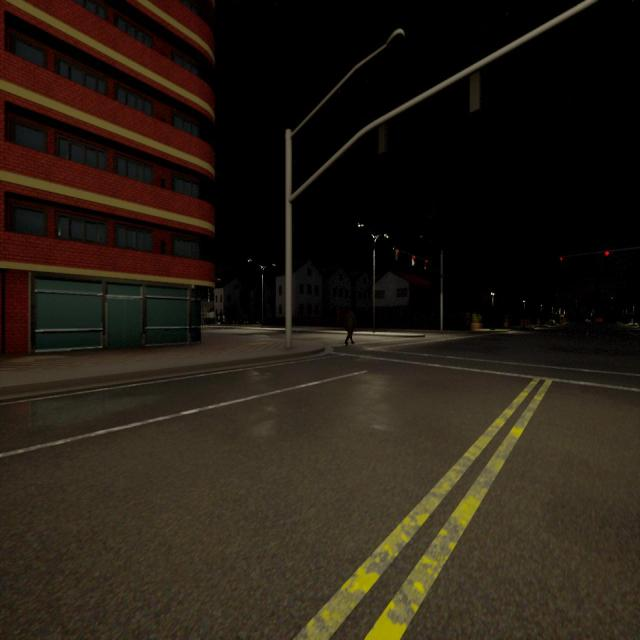Pedestrian: (344, 309, 354, 345)
traffic_light: (471, 72, 484, 110), (379, 125, 387, 151), (424, 260, 428, 270), (396, 250, 399, 262), (605, 250, 610, 256), (412, 256, 415, 265), (560, 257, 563, 261)
